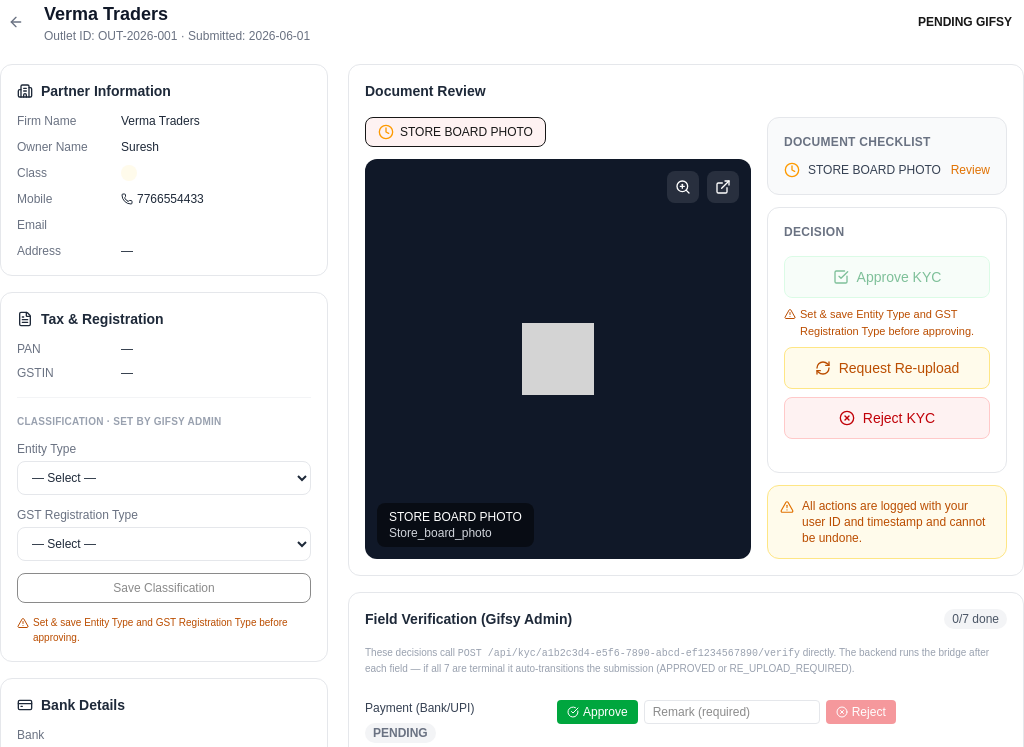
CL — Gifsy classification + group inheritance › CL7: a verify response with classificationRequired renders the finalize notice, not a per-field error
Field-verify Approve buttons read exactly "Approve" (the doc-review one reads "Approve KYC").
Click the button "Approve" at (597, 712), box [557,700,638,724]
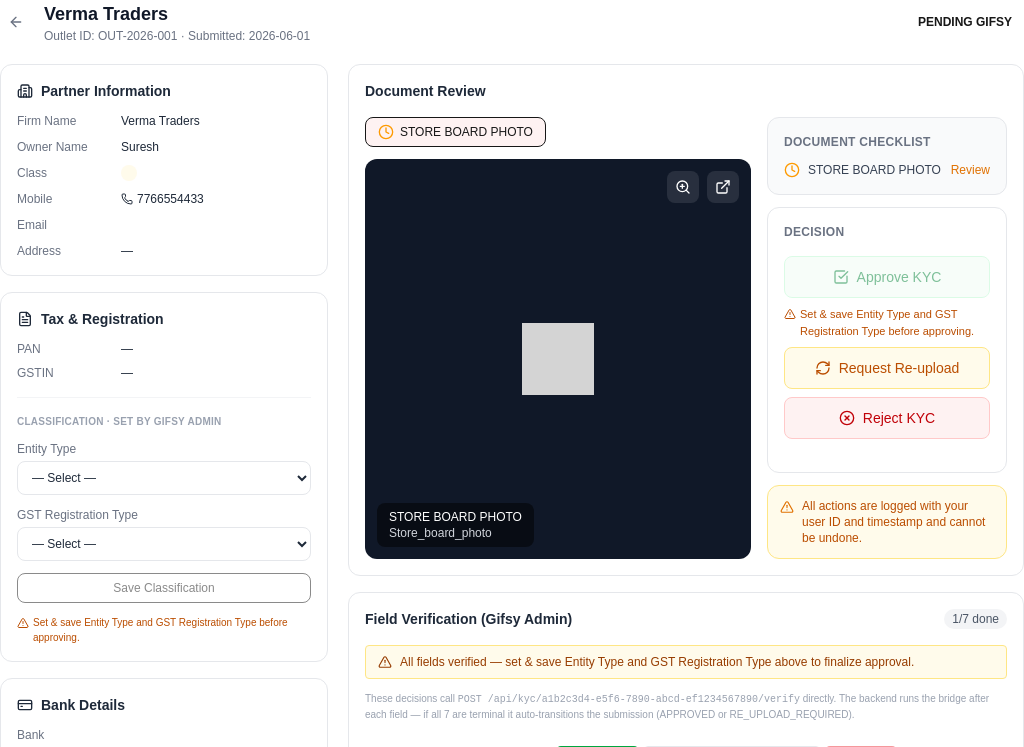
Now the element with test id "classification-required-notice" is shown, box [365,645,1007,679]
Now the text "set & save entity type and gst registration type above to finalize" is shown, box [400,655,914,669]
